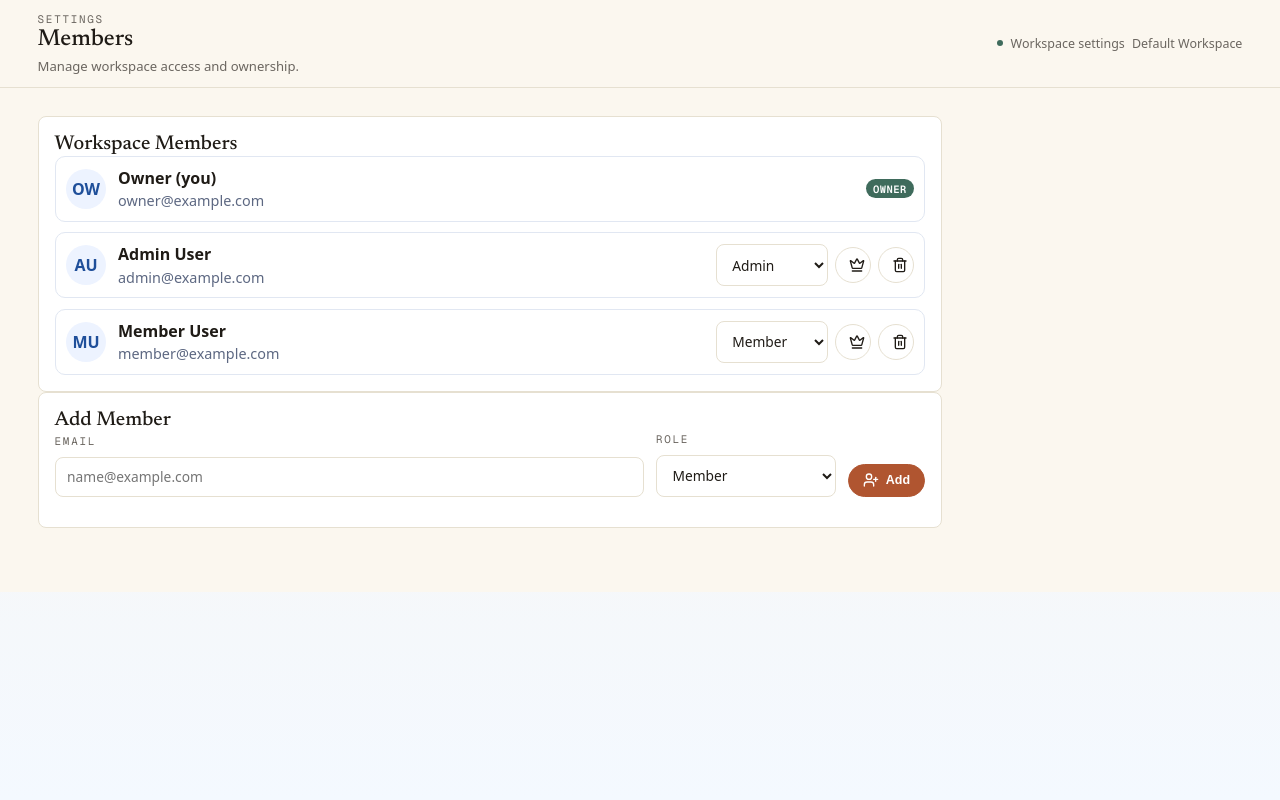
SettingsPage › lists workspace members and lets admins add and update signed-in users
expect the heading "Members" is shown: met, box [38,28,133,51]
expect the text "Owner (you)" is shown: met, box [118,167,216,189]
Select "Guest" in the dropdown named "Role for Member User" at [772, 342], box [716,321,828,363]
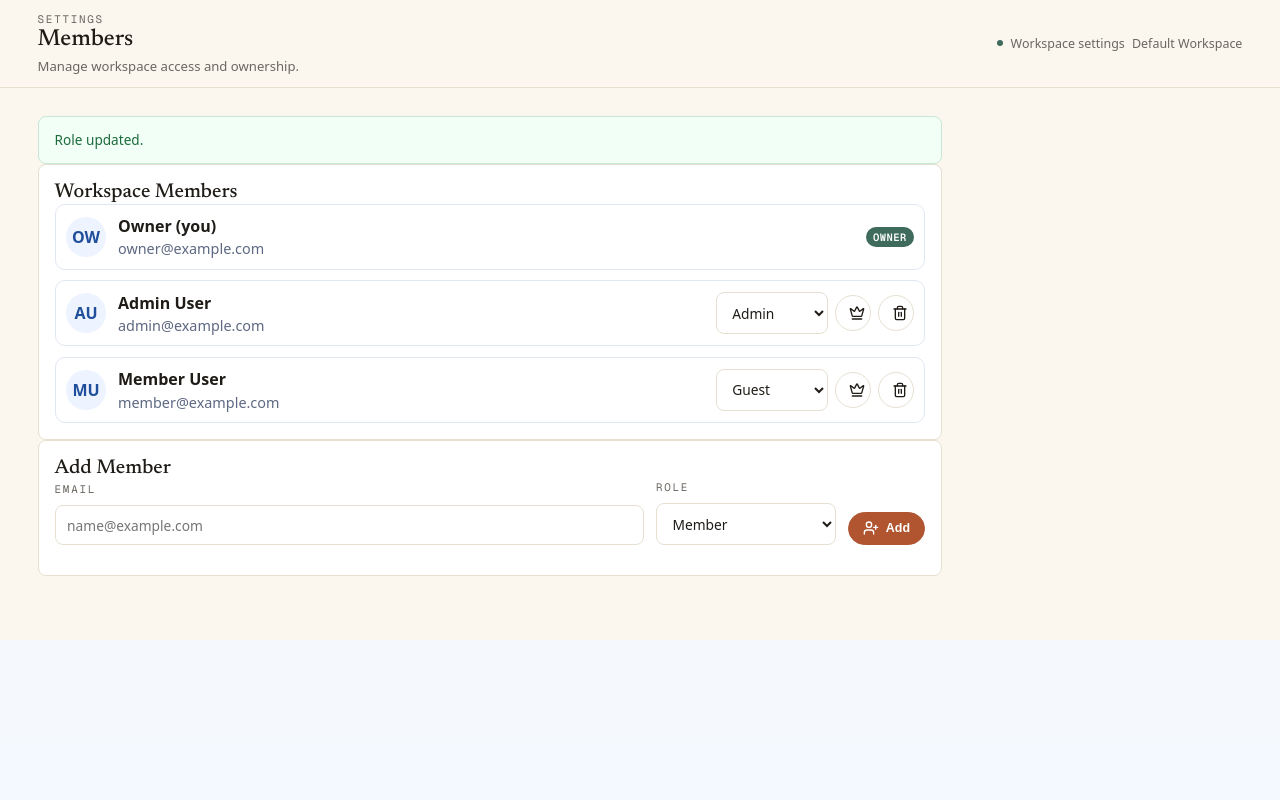
expect the text "Role updated." is shown: met, box [38,116,942,164]
Type "new@example.com" into the field labelled "Email" at [349, 525], box [55,505,644,545]
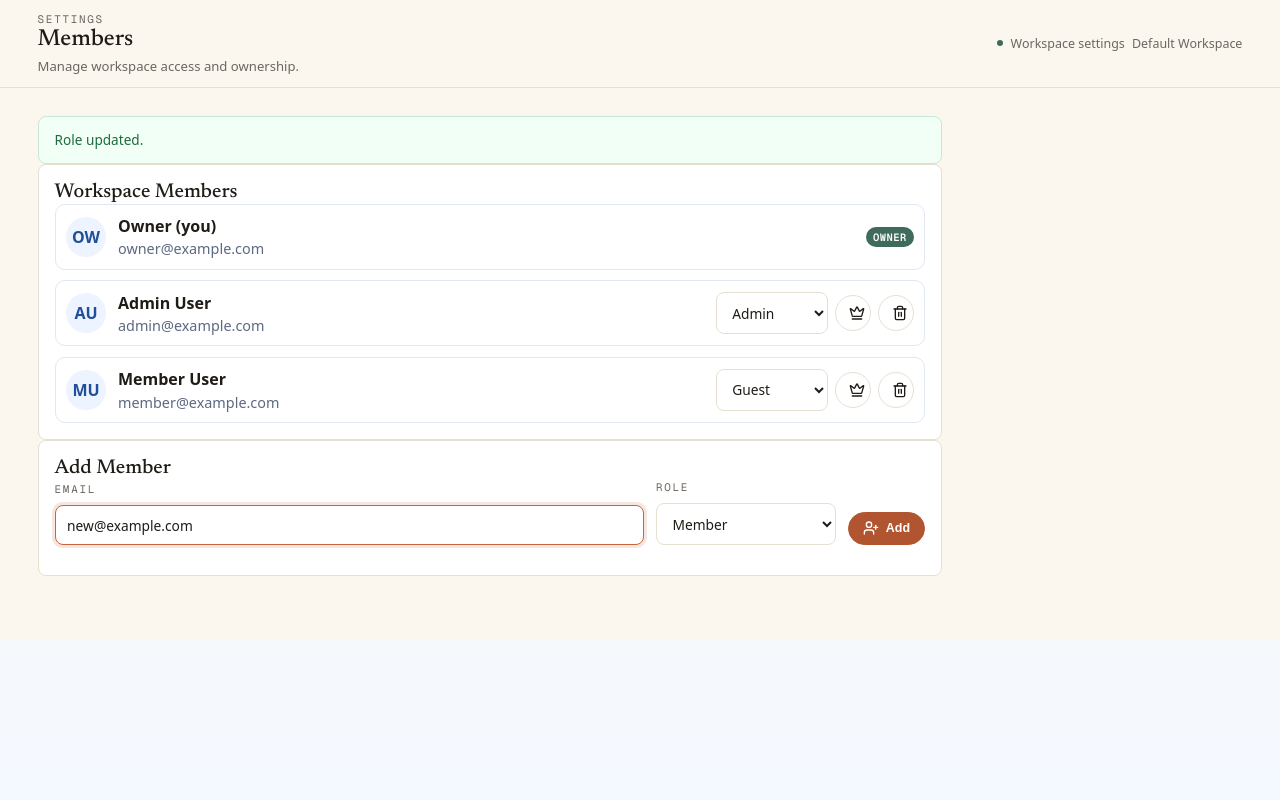
Select "Admin" in the dropdown labelled "Role" at [746, 524], box [656,503,836,545]
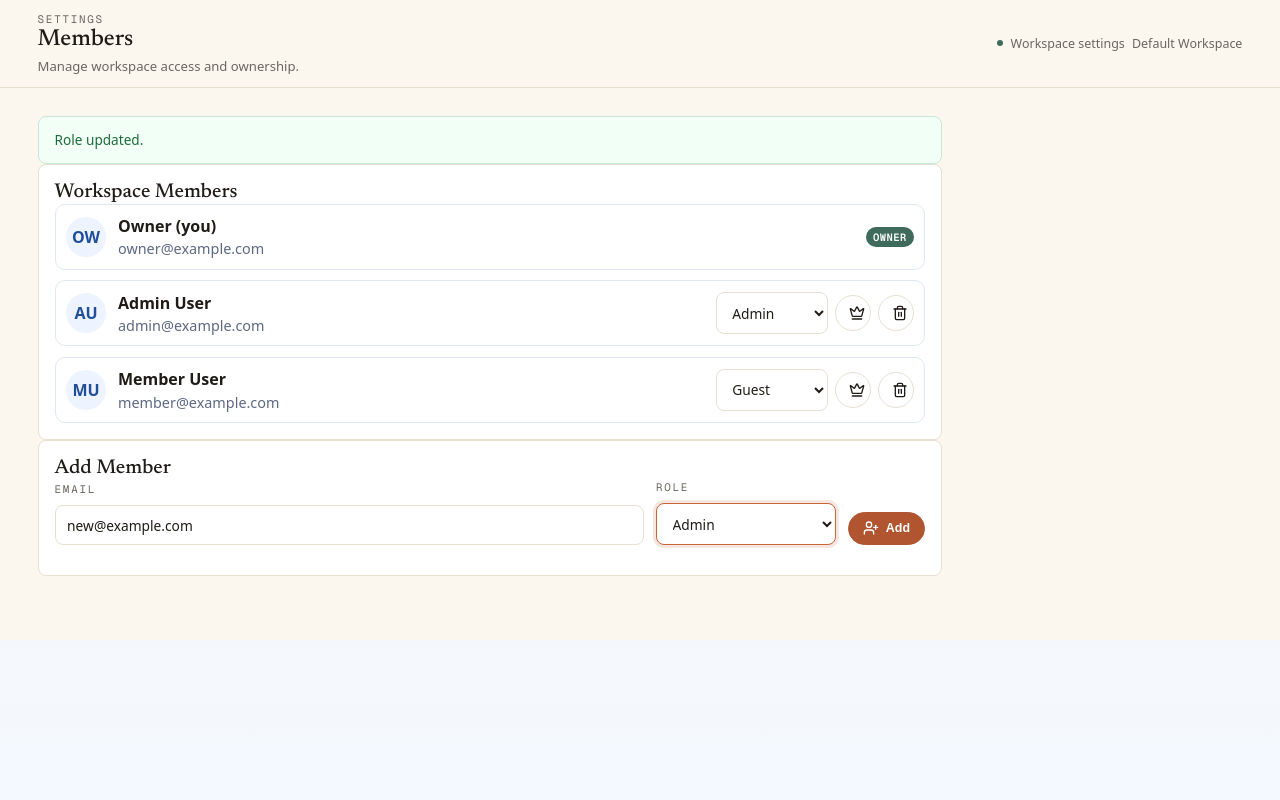
Click the button "Add" at [887, 528], box [848,512,925,545]
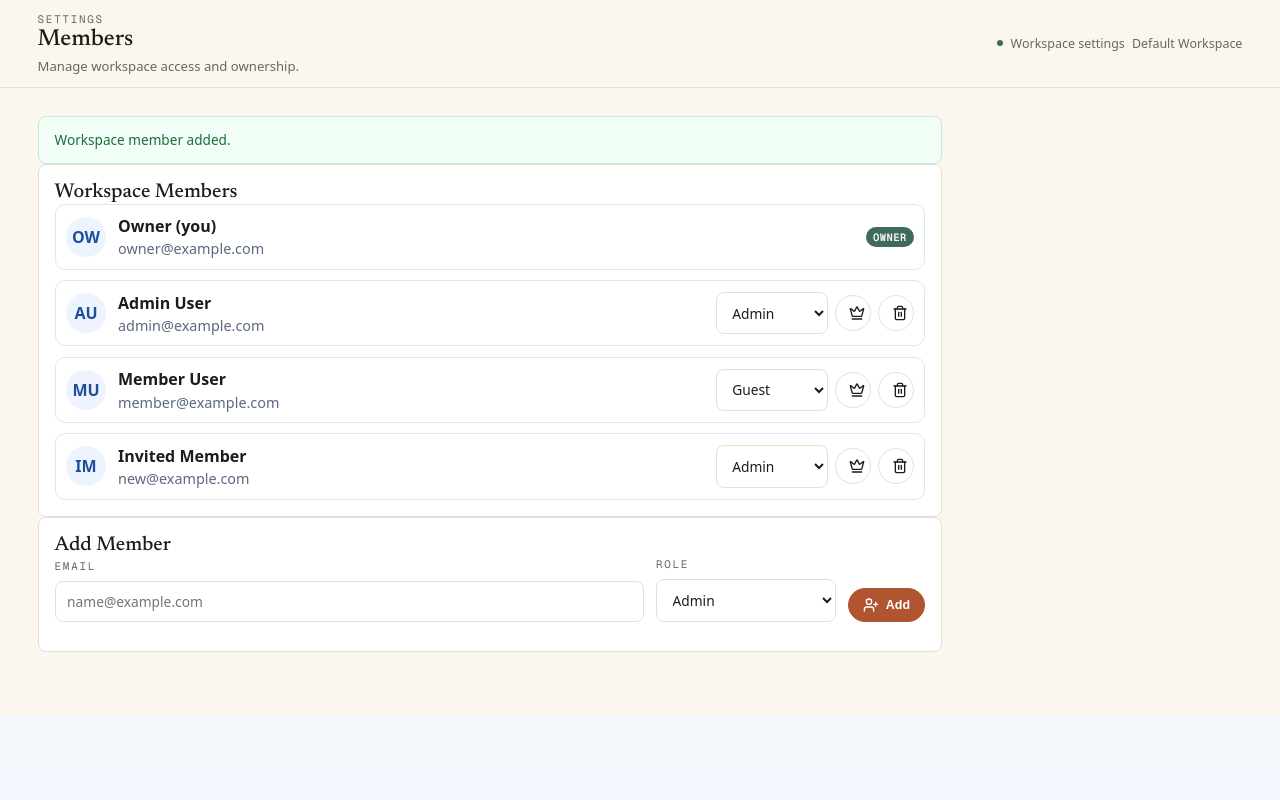
expect the text "Workspace member added." is shown: met, box [38,116,942,164]
expect the text "new@example.com" is shown: met, box [118,469,250,488]
